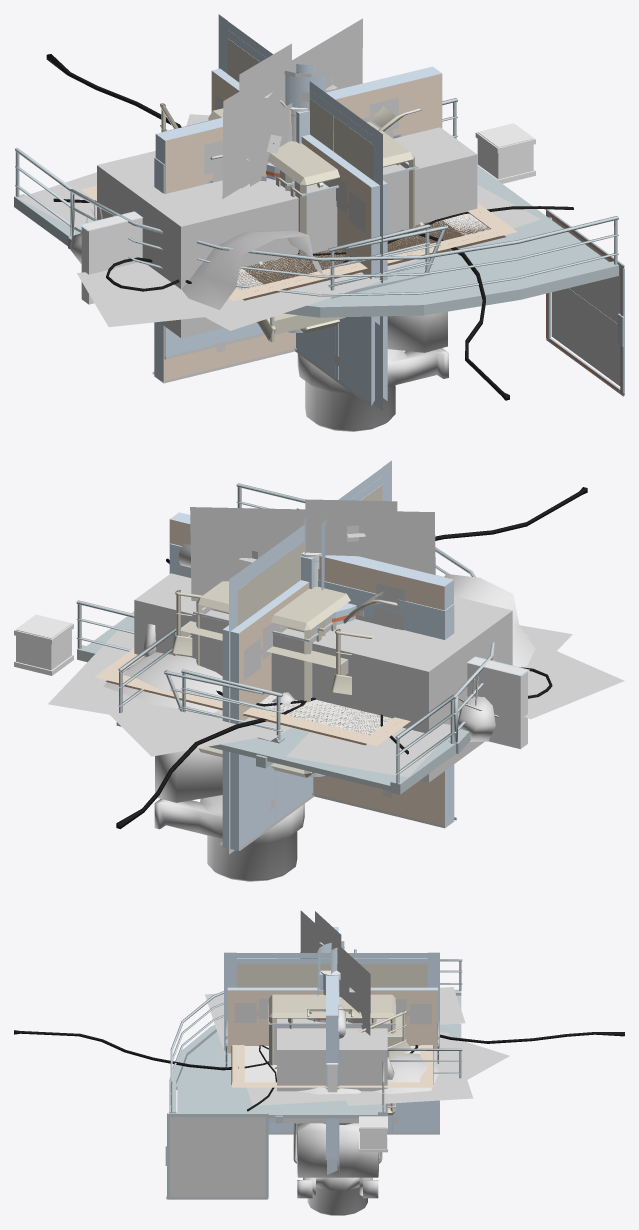
File: Props_packed.fbx
The picture shows the model from 3 angles, top to bottom: view 1: azimuth 30°, elevation 25°; view 2: azimuth 150°, elevation 25°; view 3: azimuth 270°, elevation 25°; orthographic projection. The views are drawn at different scales.
Parts seen in each view (by area): view 1: Cube.018, large_generator_1_col, Cube.023, Cube.049, lit_tree, Cube.033, large_generator_1, cage_box_large, cage_box_large_door, floor_tp_4, Cube.047, floor_tp_1 (+11 smaller); view 2: Cube.023, large_generator_1_col, lit_tree, large_generator_1, Cube.018, blowable_blue_wall, cage_box_large, Cube.033, floor_tp_4, Cube.047, Cube.049, floor_tp_1 (+7 smaller); view 3: cage_box_large_door, Cube.018, Cube.023, floor_tp_4, large_generator_1_col, large_generator_1, Cube.047, cage_box_large, lit_tree, floor_tp_1, Cube.049, Cube.033 (+4 smaller).
Boxes of the visible parts, x1,y1,x2,y2 form: Cube.018: [14, 98, 618, 317]; large_generator_1_col: [97, 127, 477, 338]; Cube.023: [18, 114, 540, 330]; Cube.049: [155, 66, 442, 359]; lit_tree: [222, 18, 362, 198]; Cube.033: [211, 68, 388, 406]; large_generator_1: [297, 311, 448, 431]; cage_box_large: [208, 108, 418, 333]; cage_box_large_door: [546, 209, 624, 396]; floor_tp_4: [218, 14, 382, 410]; Cube.047: [223, 77, 390, 405]; floor_tp_1: [81, 185, 516, 301]; Cube.023: [48, 574, 624, 777]; large_generator_1_col: [134, 573, 512, 782]; lit_tree: [190, 499, 435, 601]; large_generator_1: [143, 543, 304, 881]; Cube.018: [76, 483, 494, 794]; blowable_blue_wall: [169, 543, 456, 828]; cage_box_large: [193, 581, 350, 777]; Cube.033: [222, 580, 309, 850]; floor_tp_4: [229, 460, 391, 854]; Cube.047: [220, 581, 314, 850]; Cube.049: [169, 512, 453, 610]; floor_tp_1: [94, 634, 528, 745]; cage_box_large_door: [165, 1113, 268, 1199]; Cube.018: [169, 959, 462, 1123]; Cube.023: [205, 987, 509, 1105]; floor_tp_4: [224, 952, 439, 1134]; large_generator_1_col: [277, 958, 387, 1123]; large_generator_1: [293, 1004, 394, 1215]; Cube.047: [227, 987, 438, 1133]; cage_box_large: [268, 994, 395, 1115]; lit_tree: [300, 910, 370, 1035]; floor_tp_1: [232, 1045, 432, 1087]; Cube.049: [325, 927, 338, 1159]; Cube.033: [227, 987, 437, 1134].
Size of the model in its own units: 885 by 1396 by 637.
